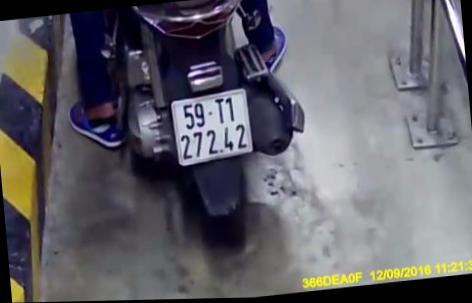LP: (170, 85, 256, 169)
